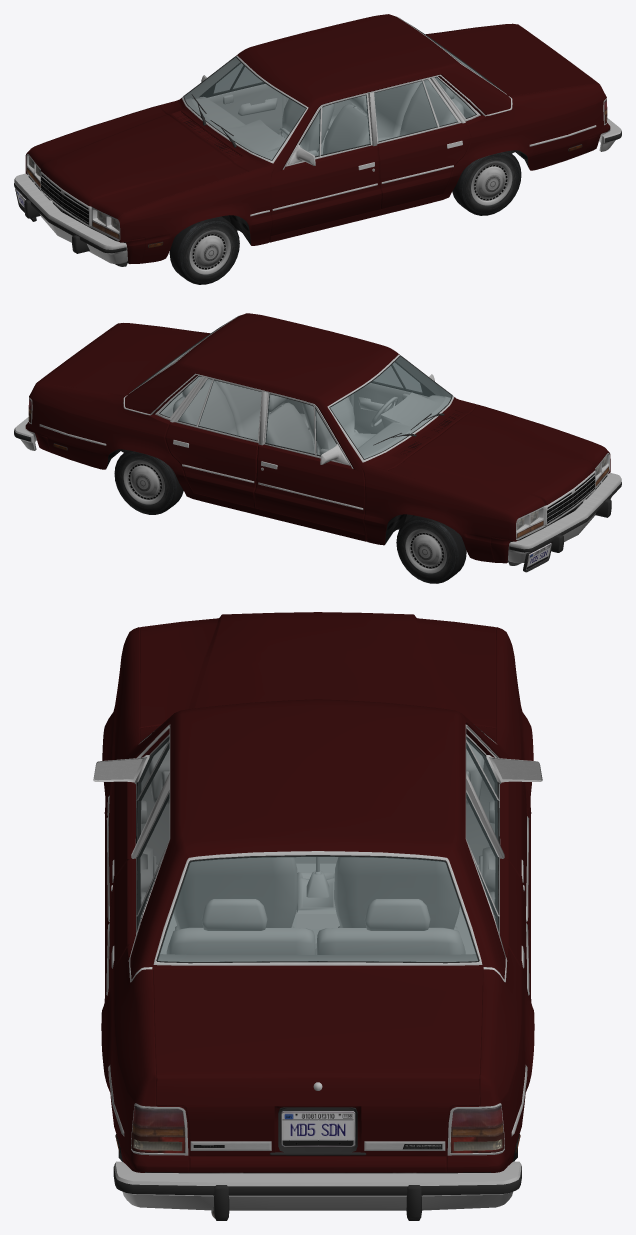
File: Fairheaven_LT80.fbx
3 views of the same model, one above another, from view 1: azimuth 30°, elevation 25°; view 2: azimuth 150°, elevation 25°; view 3: azimuth 270°, elevation 25° (orthographic). The views are drawn at different scales.
Visible parts, largest first — view 1: body, Hood, Door_FL, Seats, trunk_door, Wiendshield, Door_RL, Wheel_FL, Door_Glass_RL, Wheel_RL, bumper_front, Door_Glass_FL (+13 smaller); view 2: body, Hood, Door_FR, Seats, trunk_door, Wiendshield, Door_RR, Wheel_FR, Door_Glass_RR, Wheel_RR, bumper_front, Door_Glass_FR (+13 smaller); view 3: body, trunk_door, Hood, Windows_rear, Seats, bumper_rear, Bodytrim, interior, Taillights, Trunk_door_inner, Numberplate_rear, Door_FL (+18 smaller).
Part boxes in pixels (x1,y1,x2,y2): body: (25, 14, 610, 263); Hood: (28, 106, 248, 218); Door_FL: (270, 145, 381, 236); Seats: (278, 77, 463, 156); trunk_door: (428, 24, 598, 96); Wiendshield: (184, 57, 305, 159); Door_RL: (377, 123, 470, 208); Wheel_FL: (169, 216, 239, 284); Door_Glass_RL: (374, 79, 457, 141); Wheel_RL: (452, 151, 521, 215); bumper_front: (14, 173, 127, 263); Door_Glass_FL: (299, 95, 370, 156); body: (25, 313, 610, 563); Hood: (387, 405, 607, 517); Door_FR: (254, 444, 365, 535); Seats: (173, 376, 375, 455); trunk_door: (37, 323, 207, 395); Wiendshield: (330, 356, 451, 458); Door_RR: (165, 422, 258, 507); Wheel_FR: (396, 515, 466, 583); Door_Glass_RR: (178, 378, 261, 440); Wheel_RR: (114, 450, 183, 514); bumper_front: (508, 472, 621, 572); Door_Glass_FR: (265, 394, 336, 455); body: (101, 627, 534, 1172); trunk_door: (153, 969, 482, 1156); Hood: (139, 612, 496, 728); Windows_rear: (157, 856, 478, 961); Seats: (166, 857, 465, 954); bumper_rear: (113, 1161, 521, 1220); Bodytrim: (108, 724, 527, 1153); interior: (140, 761, 495, 961); Taillights: (131, 1103, 504, 1155); Trunk_door_inner: (190, 1082, 445, 1155); Numberplate_rear: (281, 1111, 355, 1146); Door_FL: (105, 758, 135, 941).
Bounding box in the file's own units: 196 × 72.15 × 53.16.
